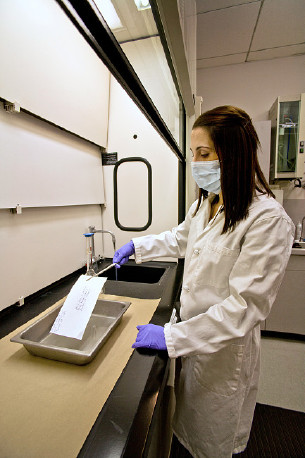face_mask: (189, 126, 220, 192)
